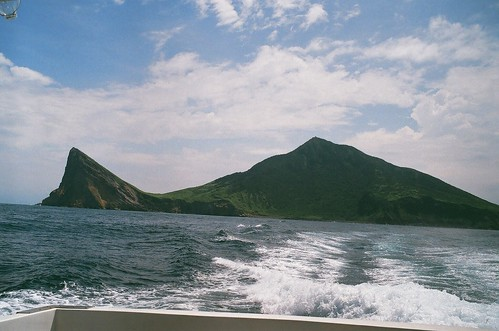turtleIslandLeft: (45, 129, 498, 229)
